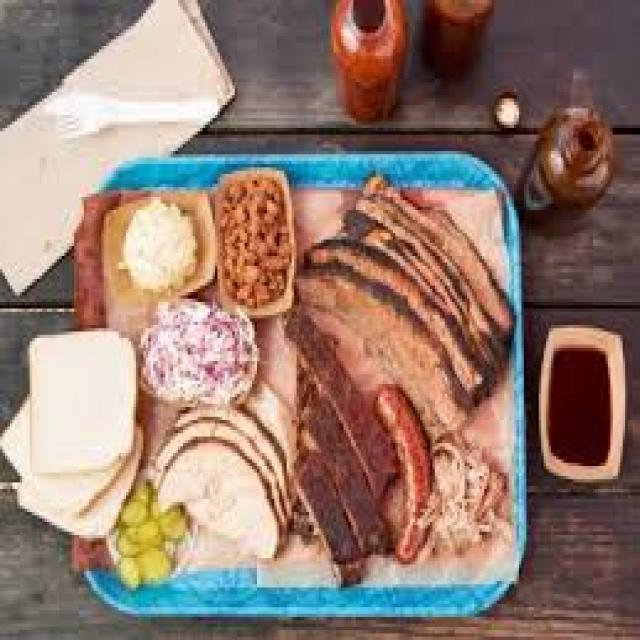Organik: (326, 164, 518, 399), (0, 0, 236, 173), (10, 326, 138, 535), (369, 361, 489, 582), (284, 308, 382, 571), (169, 362, 296, 544), (140, 290, 270, 395), (212, 167, 295, 314), (95, 208, 223, 284), (110, 457, 174, 572)
